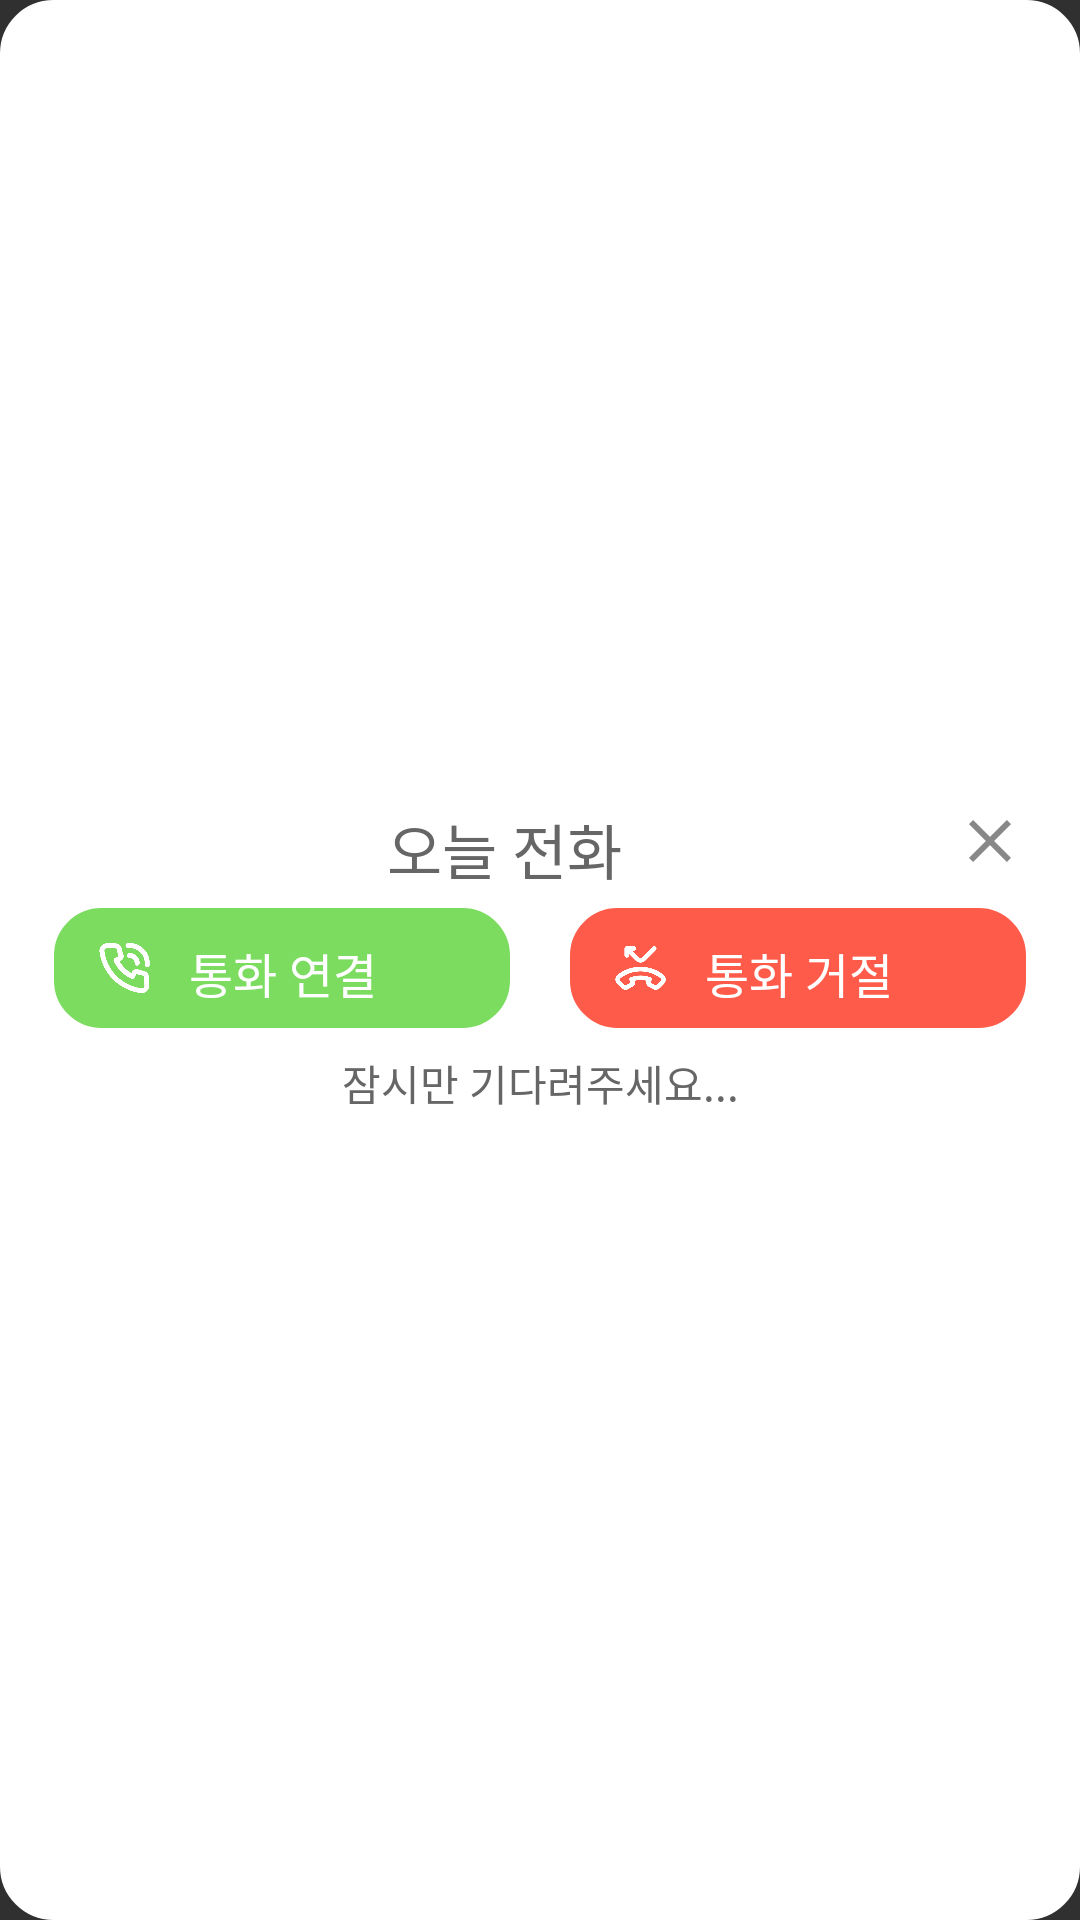

Named icons in this screenshot (1080px x 1920px) and their bounding boxes, (x1, y1, x2, y2):
accept call: (99, 943, 150, 993)
clear: (969, 820, 1011, 862)
reject call: (615, 946, 666, 990)
